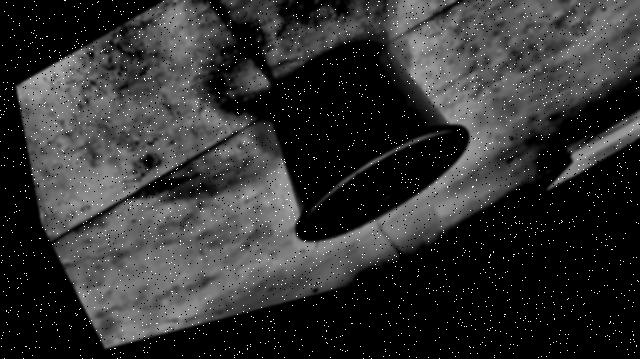pot: (270, 42, 470, 240)
